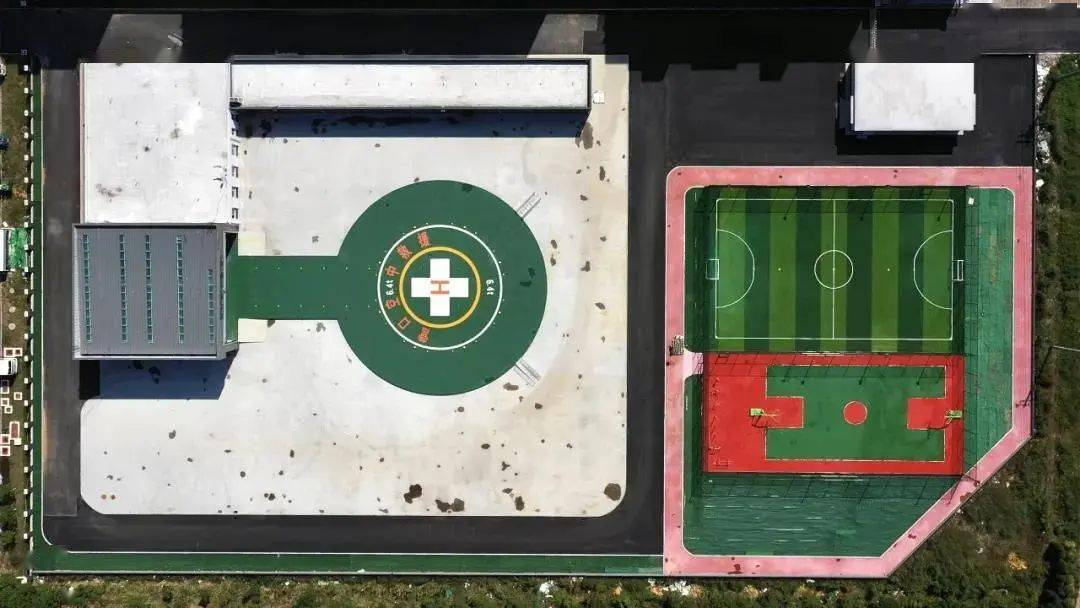Apron: (400, 244, 480, 331)
